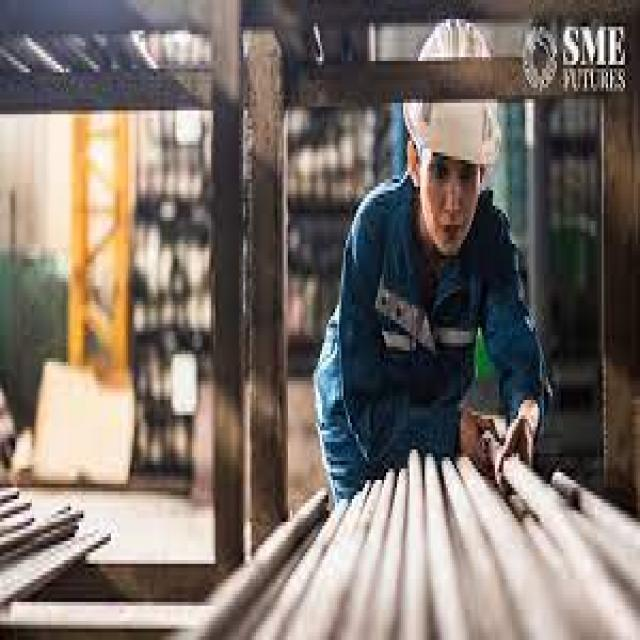Reflective-Jacket: (326, 187, 544, 421)
Safety-Helmet: (388, 11, 512, 179)
